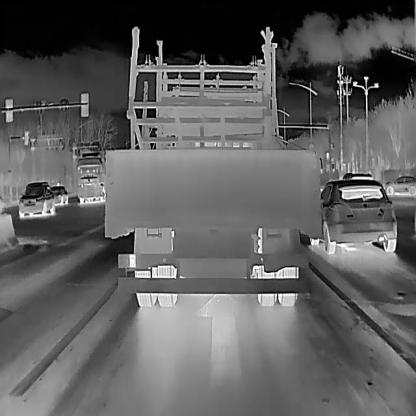car: (318, 180, 396, 252), (16, 180, 56, 216), (385, 174, 415, 197), (49, 184, 69, 206)
truck: (102, 73, 320, 307), (75, 150, 106, 203)
